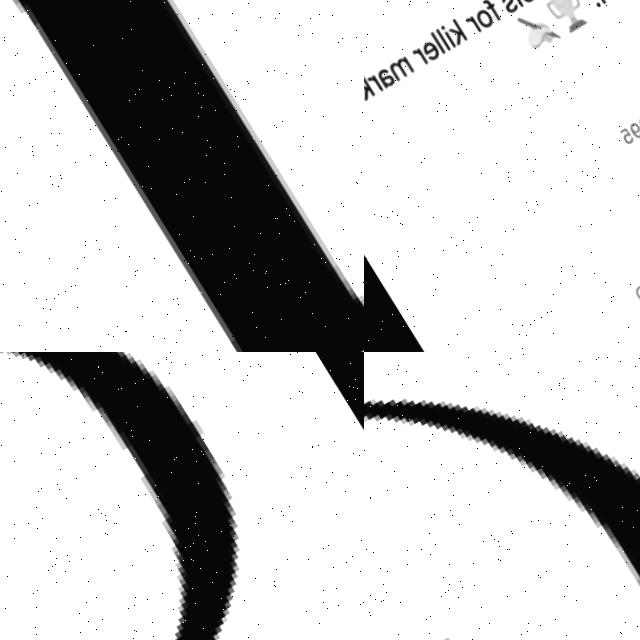3: (635, 114, 640, 133)
5: (617, 126, 634, 145)
9: (627, 119, 640, 139)
G: (364, 352, 640, 640)
I: (5, 0, 364, 352)
Q: (0, 352, 364, 640)
